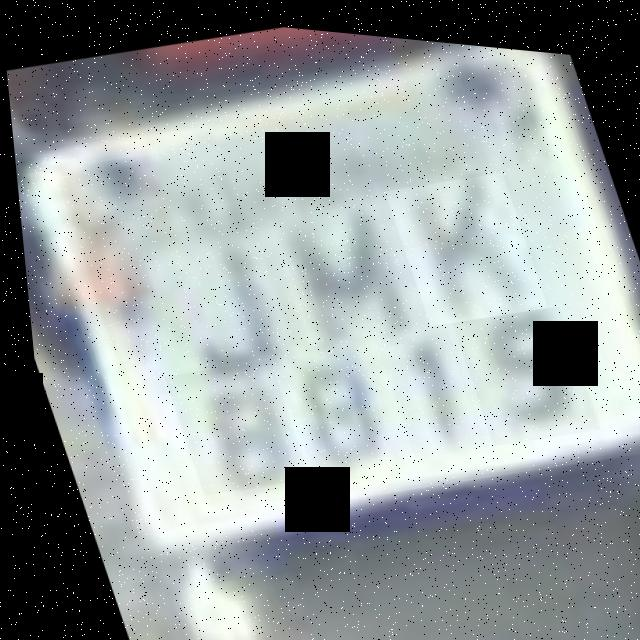1: (368, 317, 480, 456)
5: (444, 286, 595, 445)
8: (154, 346, 303, 500)
B: (259, 325, 399, 473)
J: (134, 203, 307, 378)
M: (255, 177, 427, 361)
N: (379, 153, 544, 327)
